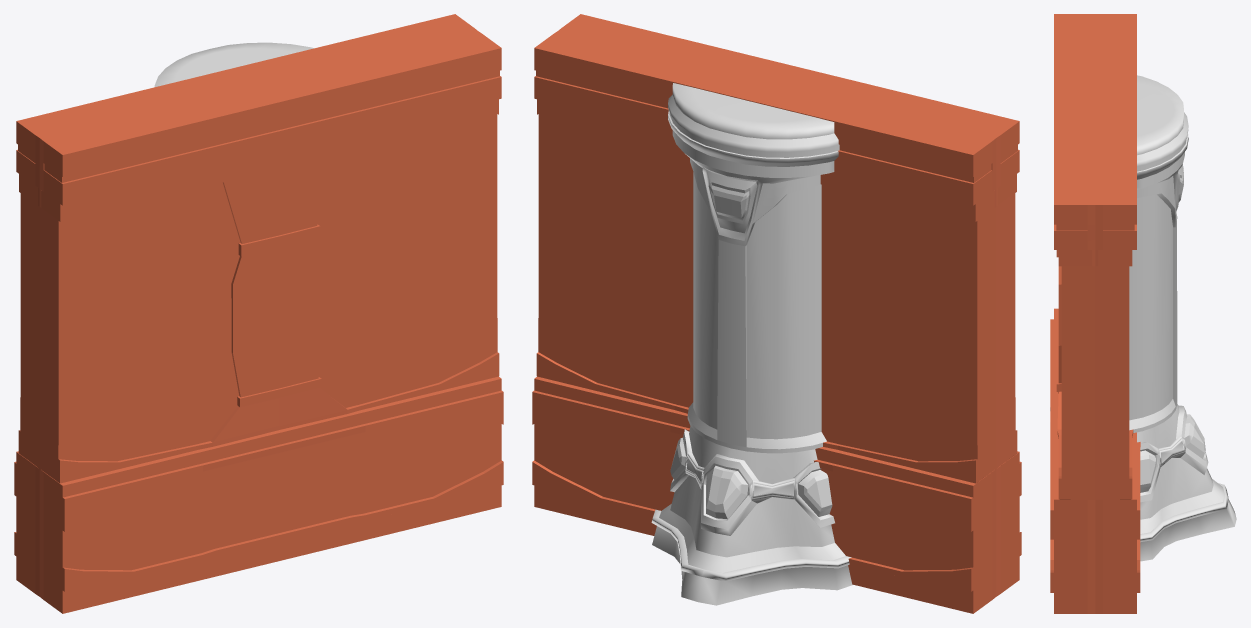
Rendered from Mur_Pylone_Game.fbx.
3 renders of one model, left to right at view 1: azimuth 30°, elevation 25°; view 2: azimuth 150°, elevation 25°; view 3: azimuth 270°, elevation 25°, orthographic. The views are drawn at different scales.
Visible parts, largest first — view 1: Mur_Plein, Pylone; view 2: Mur_Plein, Pylone; view 3: Mur_Plein, Pylone.
Boxes of the visible parts, x1,y1,x2,y2 form: Mur_Plein: (14,14,503,613); Pylone: (154,42,313,86); Mur_Plein: (532,14,1021,613); Pylone: (651,83,853,605); Mur_Plein: (1050,14,1140,613); Pylone: (1129,75,1236,561).
Bounding box in the file's own units: 200 × 200 × 82.61.
